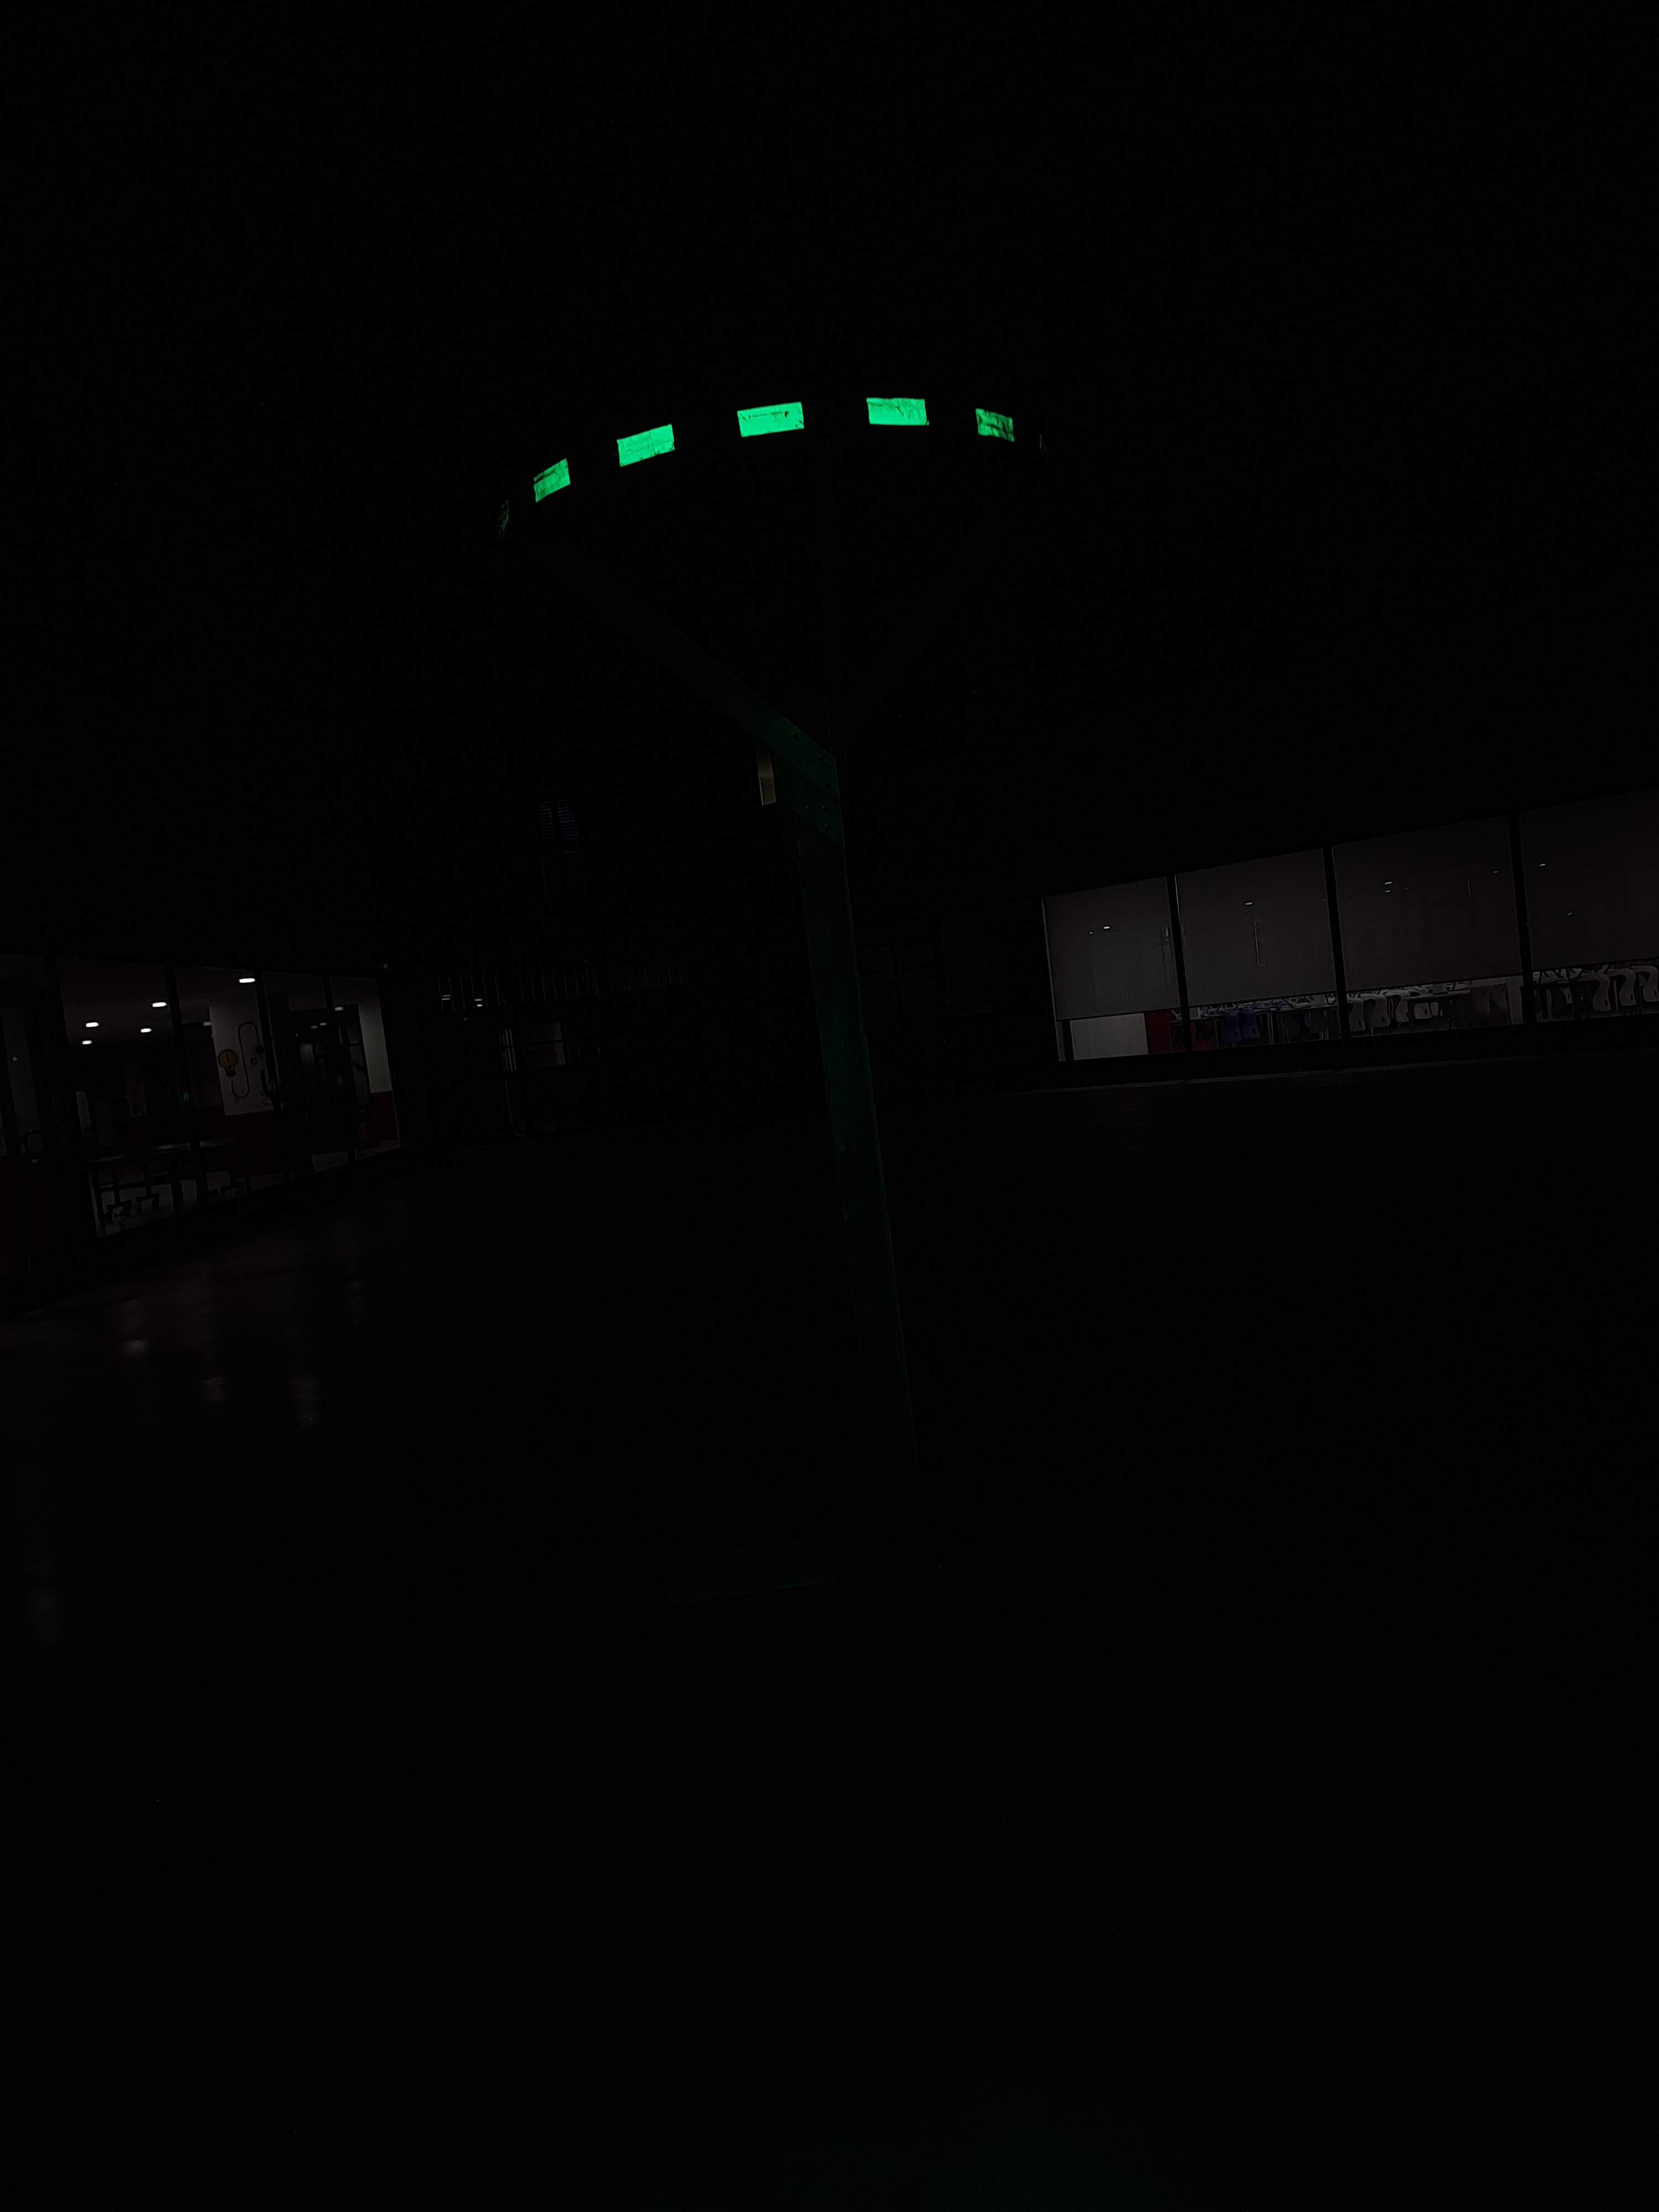hoop: (525, 380, 1030, 514)
